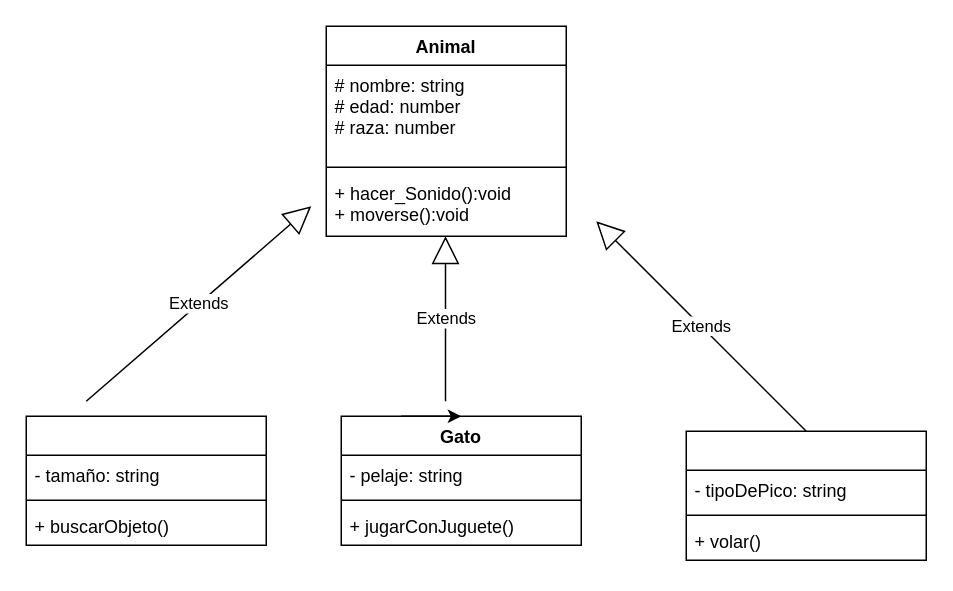
The diagram is 953 pixels wide and 591 high, and some of its shapes have lost their labels. Each missing label, with the box of its shape:
Pajaro: (685, 430, 926, 560)
Perro: (25, 415, 266, 545)
